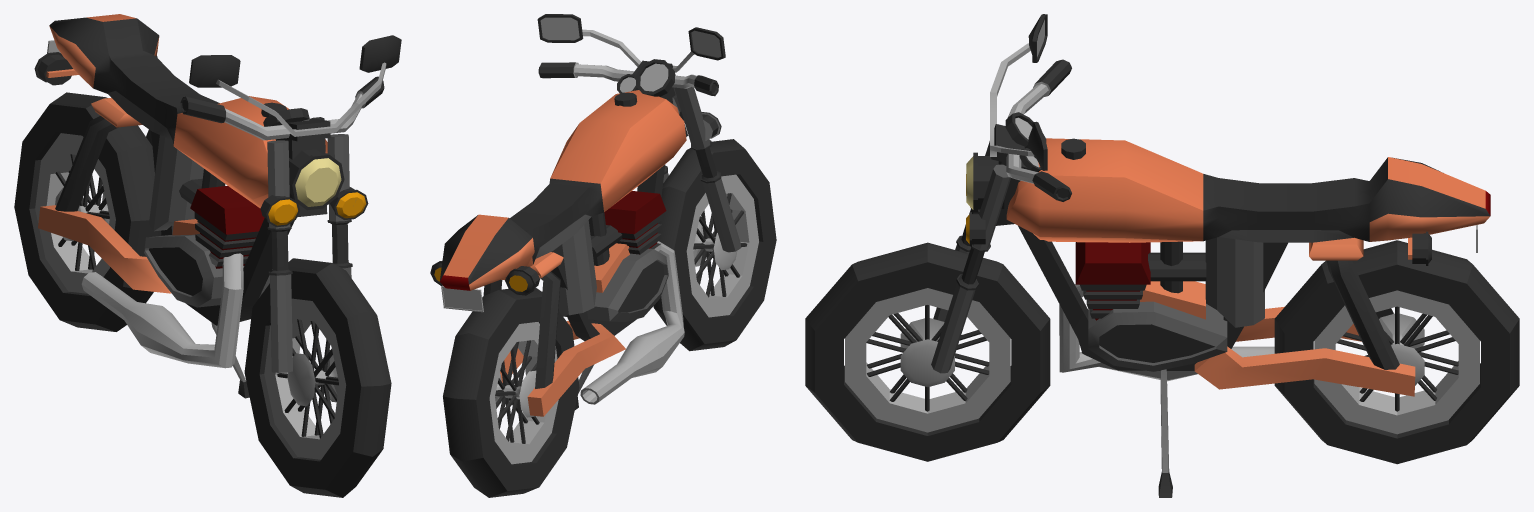
Rendered from Motoca2.fbx.
3 renders of one model, left to right at view 1: azimuth 30°, elevation 25°; view 2: azimuth 150°, elevation 25°; view 3: azimuth 270°, elevation 25°, orthographic. The views are drawn at different scales.
Parts seen in each view (by area): view 1: polySurface66; view 2: polySurface66; view 3: polySurface66.
Boxes of the visible parts, left/top/right/bottom form: polySurface66: left=14, top=14, right=401, bottom=497; polySurface66: left=430, top=14, right=776, bottom=497; polySurface66: left=805, top=14, right=1519, bottom=497.
Bounding box in the file's own units: 3.68 × 6.78 × 10.39.
